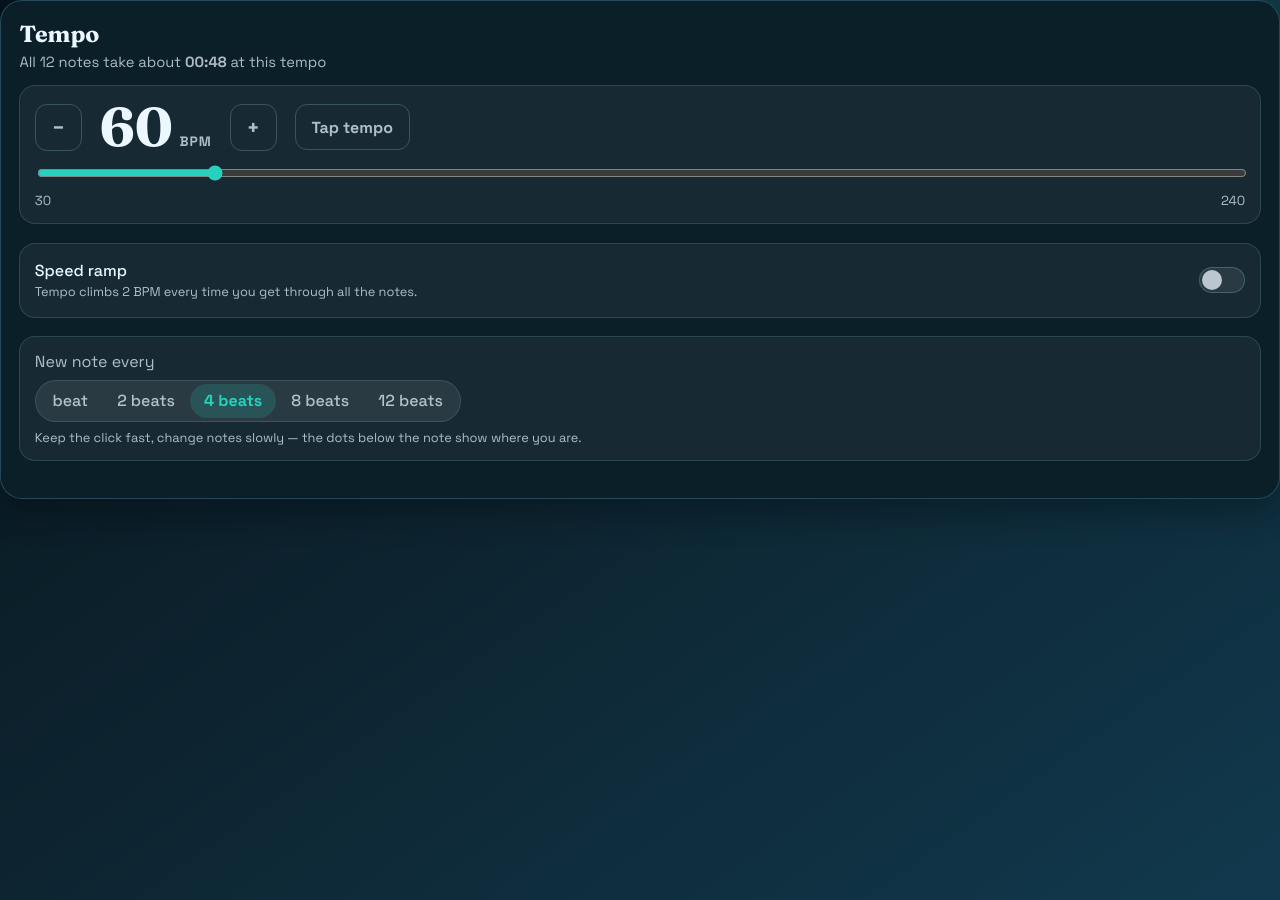
TempoCard › tap tempo feedback › clears the keep-tapping state once a second tap lands a tempo
Click the button with test id "tap-tempo".
click(352, 127)  # box [294,104,410,150]
Wait 500 ms
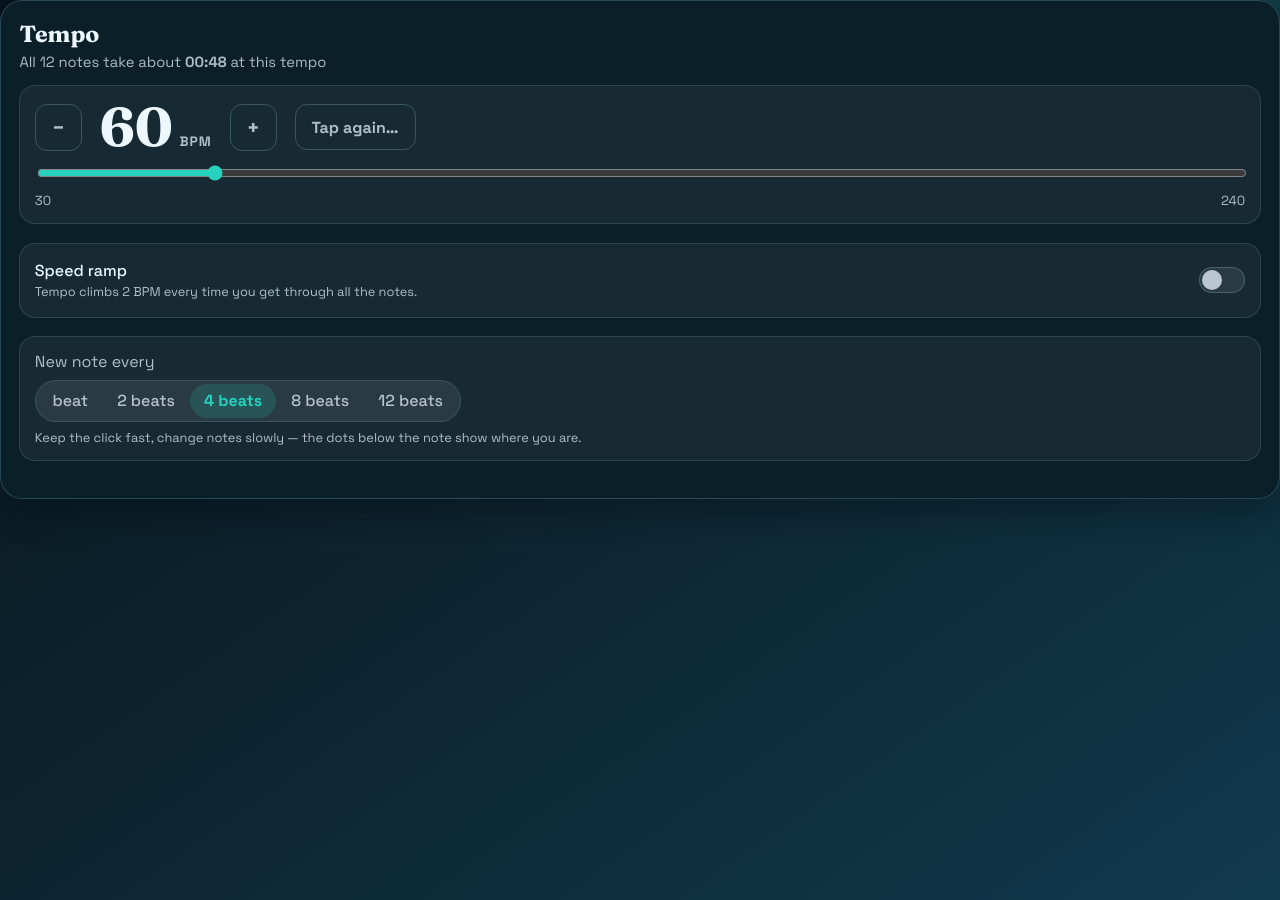
Click the button with test id "tap-tempo".
click(355, 127)  # box [294,104,416,150]
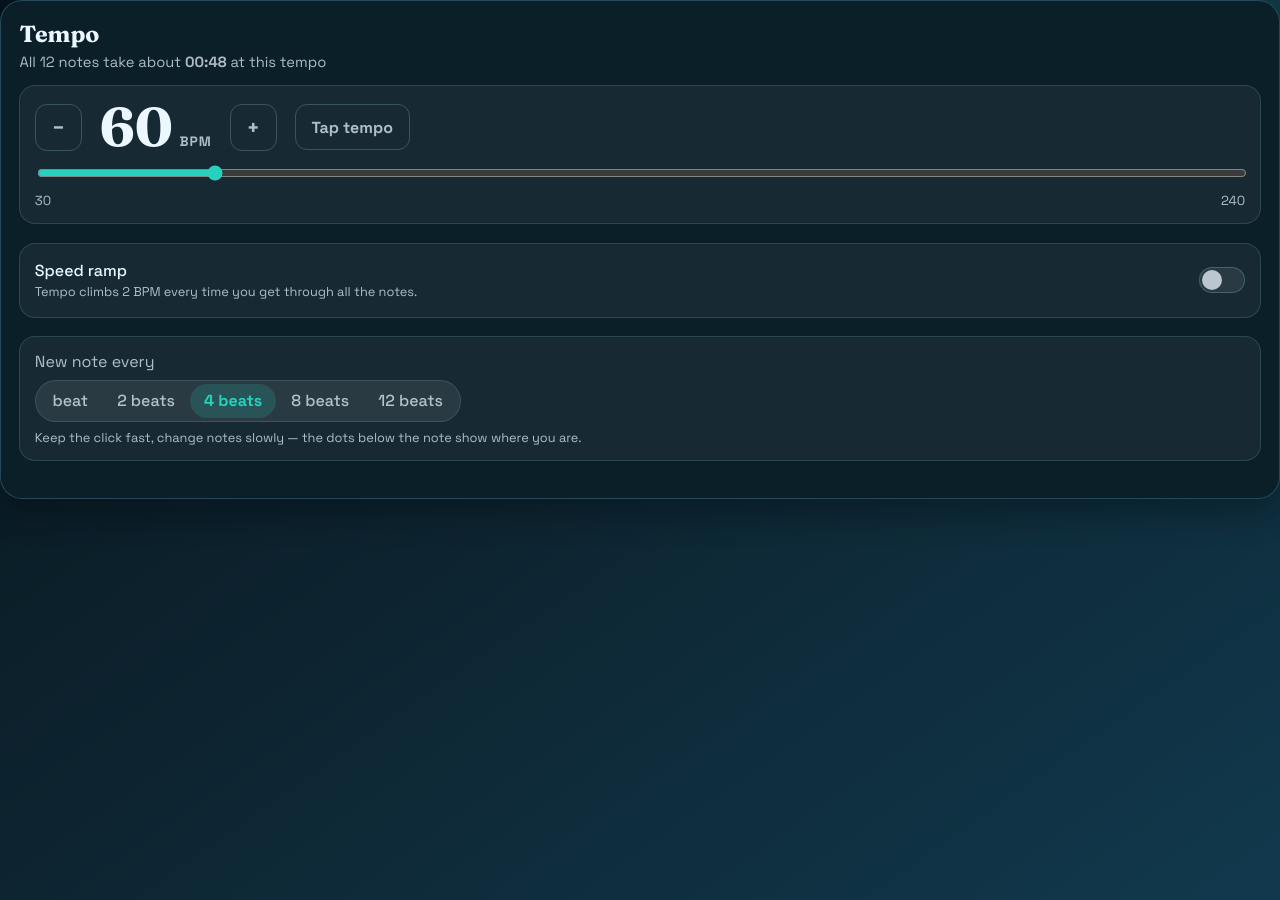
Result: the button with test id "tap-tempo" reads "Tap tempo" at [294,104,410,150]
